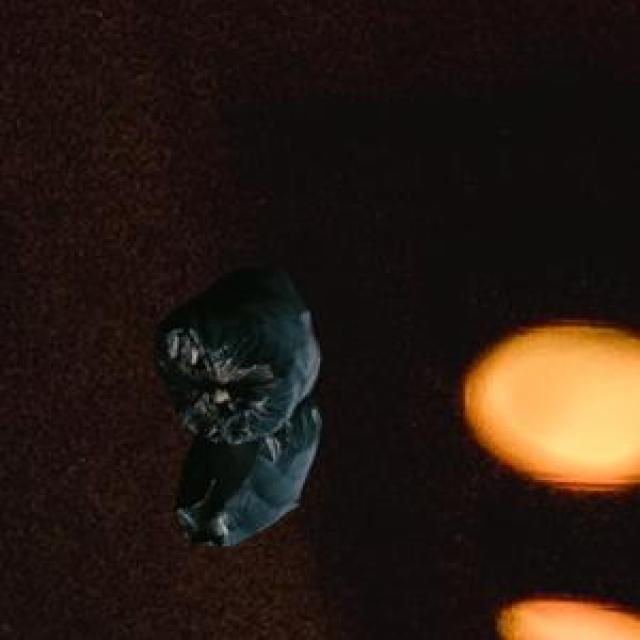miscellaneous trash: (152, 262, 316, 542)
